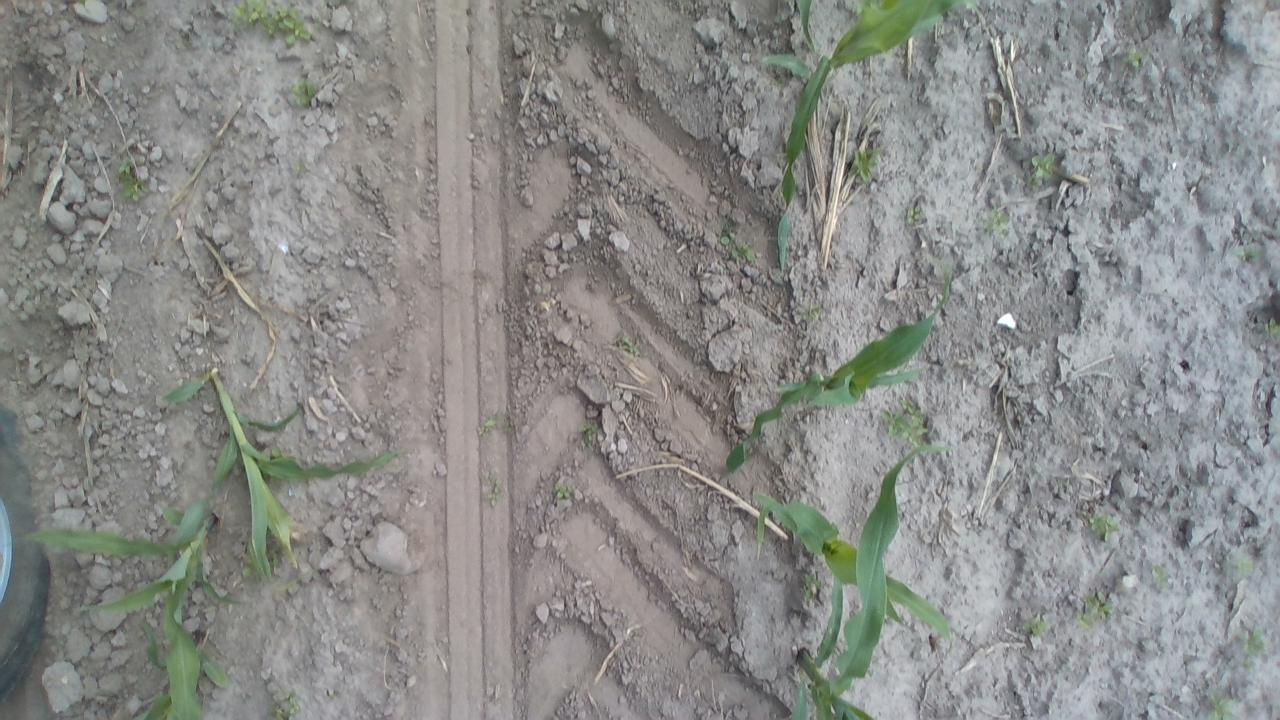Maize: (760, 0, 971, 280), (164, 362, 410, 590), (18, 466, 244, 712), (758, 436, 952, 720), (713, 274, 956, 478), (753, 488, 952, 639), (794, 0, 820, 56)
Weeds: (227, 0, 316, 44), (880, 398, 930, 449), (112, 155, 148, 206), (718, 224, 756, 266), (848, 144, 885, 186), (1076, 588, 1116, 626), (1086, 507, 1122, 544), (1024, 150, 1059, 188), (286, 75, 322, 109), (478, 408, 513, 440), (1236, 624, 1268, 659), (266, 688, 303, 718), (1018, 610, 1054, 640), (1201, 692, 1238, 719), (982, 205, 1013, 236), (1226, 552, 1258, 582), (798, 568, 828, 600), (614, 332, 646, 360), (482, 470, 505, 508), (1147, 561, 1175, 592), (575, 418, 603, 446), (1235, 240, 1262, 266), (906, 201, 926, 230), (1123, 48, 1147, 71), (550, 482, 576, 503), (798, 302, 822, 324), (241, 557, 262, 582), (266, 443, 292, 463), (290, 156, 312, 178), (1264, 313, 1278, 340)
